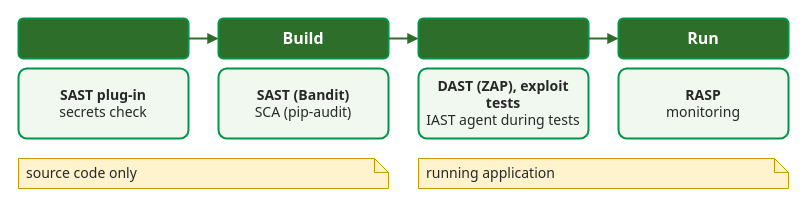
This 806x206 diagram has some shape labels left out. Here are the shapes that lost their labels. From the top down, the centre of each, then its label:
the point at 103,38: IDE
the point at 503,38: Test
